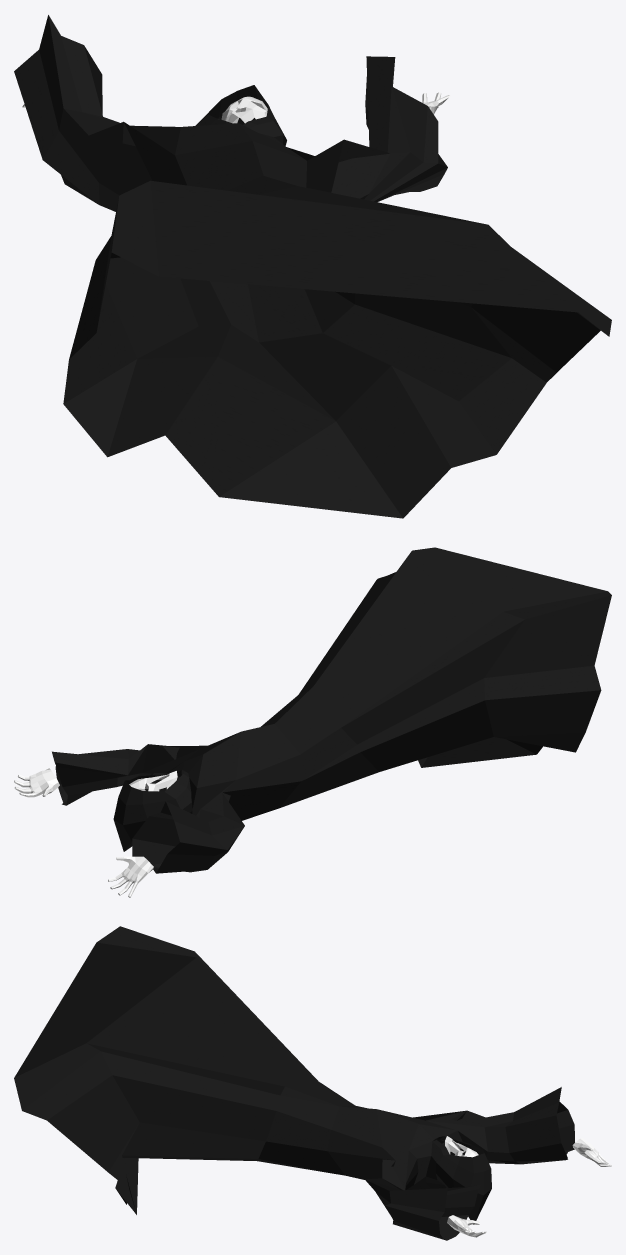
The model's file is ReaperDead(103).obj.
The picture shows the model from 3 angles, top to bottom: view 1: azimuth 30°, elevation 25°; view 2: azimuth 150°, elevation 25°; view 3: azimuth 270°, elevation 25°; orthographic projection. The views are drawn at different scales.
Visible parts, largest first — view 1: Plane003; view 2: Plane003; view 3: Plane003.
Boxes of the visible parts, x1,y1,x2,y2 form: Plane003: (14, 15, 611, 518); Plane003: (14, 547, 611, 897); Plane003: (14, 926, 611, 1240).
Size of the model in its own units: 212 by 106 by 293.
